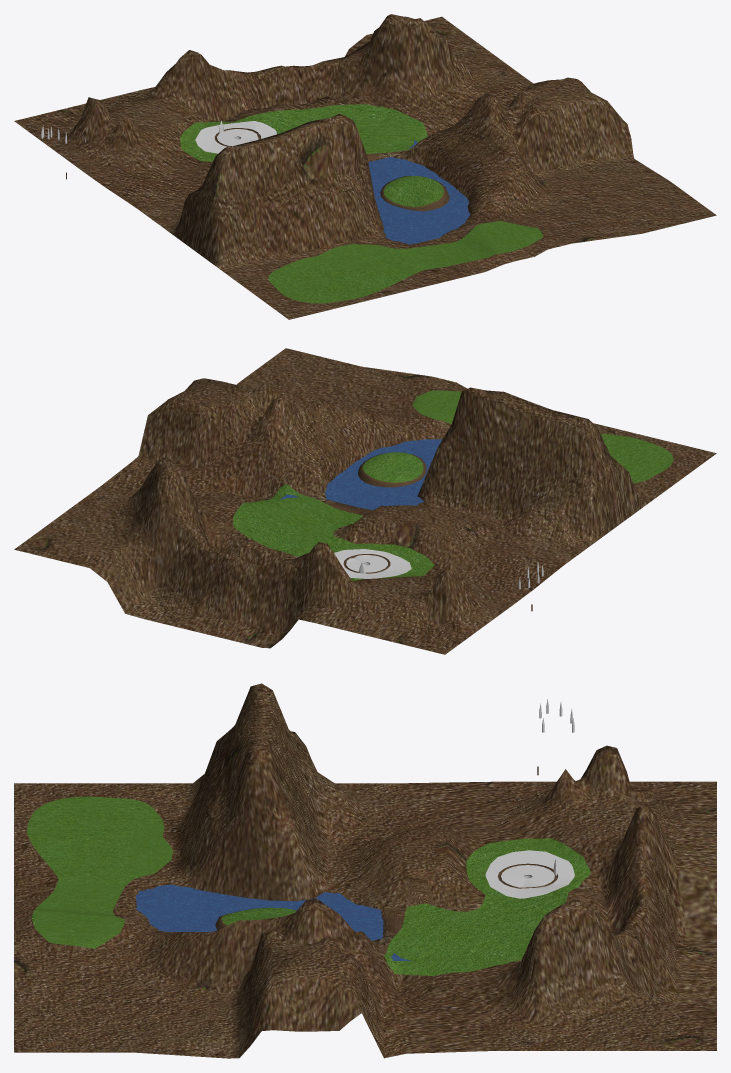
The model's file is Hole012.fbx.
3 renders of one model, top to bottom at view 1: azimuth 30°, elevation 25°; view 2: azimuth 150°, elevation 25°; view 3: azimuth 270°, elevation 25°, orthographic. The views are drawn at different scales.
Parts seen in each view (by area): view 1: nurbsToPoly15, pPlane2, pCylinder3; view 2: nurbsToPoly15, pPlane2, pCylinder3; view 3: nurbsToPoly15, pPlane2, pCylinder3.
Boxes of the visible parts, x1,y1,x2,y2 form: nurbsToPoly15: (14,14,716,319); pPlane2: (368,140,470,244); pCylinder3: (380,176,449,211); nurbsToPoly15: (14,348,716,654); pPlane2: (280,439,442,509); pCylinder3: (358,452,426,487); nurbsToPoly15: (14,683,716,1058); pPlane2: (136,884,411,960); pCylinder3: (215,907,296,930).
Size of the model in its own units: 943 by 267 by 946.
